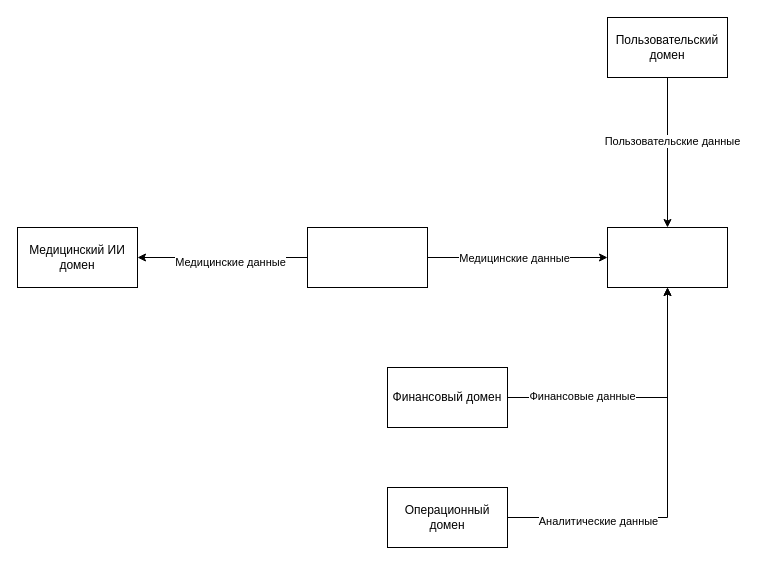
Some shapes in this 757 by 565 pixel diagram are drawn without their labels. Here are the shapes that lost their labels. From the top down, the centre of each, then its label:
At pixel 367 257: "Медицинский домен".
At pixel 667 257: "Аналитический домен".
